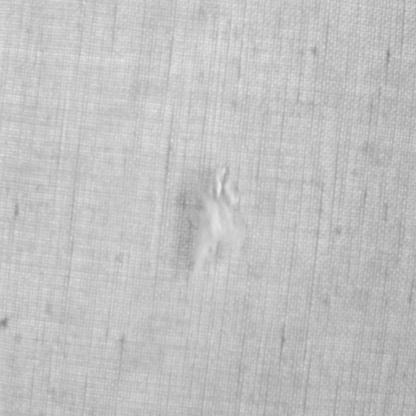objects: (183, 164, 246, 263)
